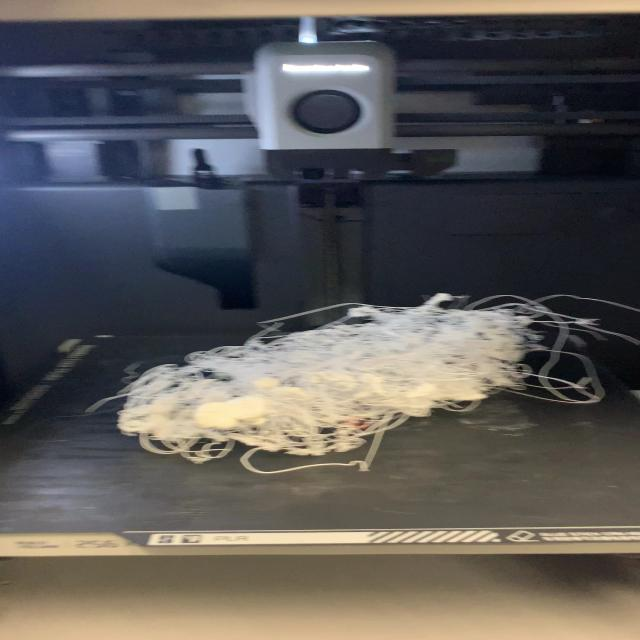spaghetti: (91, 290, 634, 476)
